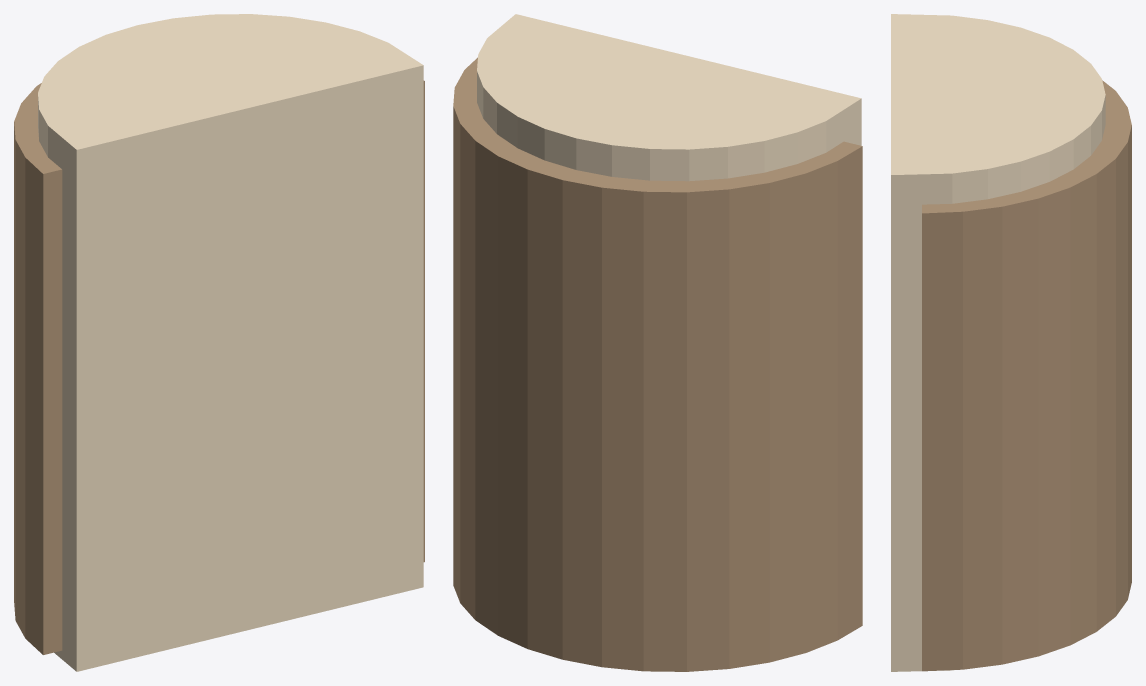
The model's file is LogJamHalf.glb.
3 renders of one model, left to right at view 1: azimuth 30°, elevation 25°; view 2: azimuth 150°, elevation 25°; view 3: azimuth 270°, elevation 25°, orthographic. The views are drawn at different scales.
Parts seen in each view (by area): view 1: Wood, Bark; view 2: Bark, Wood; view 3: Bark, Wood.
Boxes of the visible parts, x1,y1,x2,y2 form: Wood: [38, 14, 423, 671]; Bark: [14, 80, 424, 654]; Bark: [453, 57, 862, 671]; Wood: [477, 14, 861, 181]; Bark: [922, 80, 1131, 671]; Wood: [891, 14, 1105, 671].
Size of the model in its own units: 1.76 by 2.3 by 1.01.
